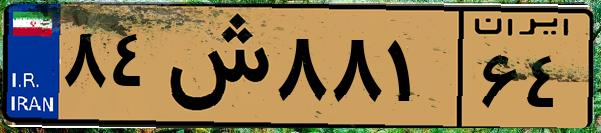1: (385, 28, 445, 110)
4: (525, 38, 570, 115), (110, 28, 158, 98)
6: (475, 38, 525, 113)
8: (270, 28, 330, 110), (330, 28, 385, 110), (57, 26, 110, 100)
ش: (158, 12, 270, 120)
